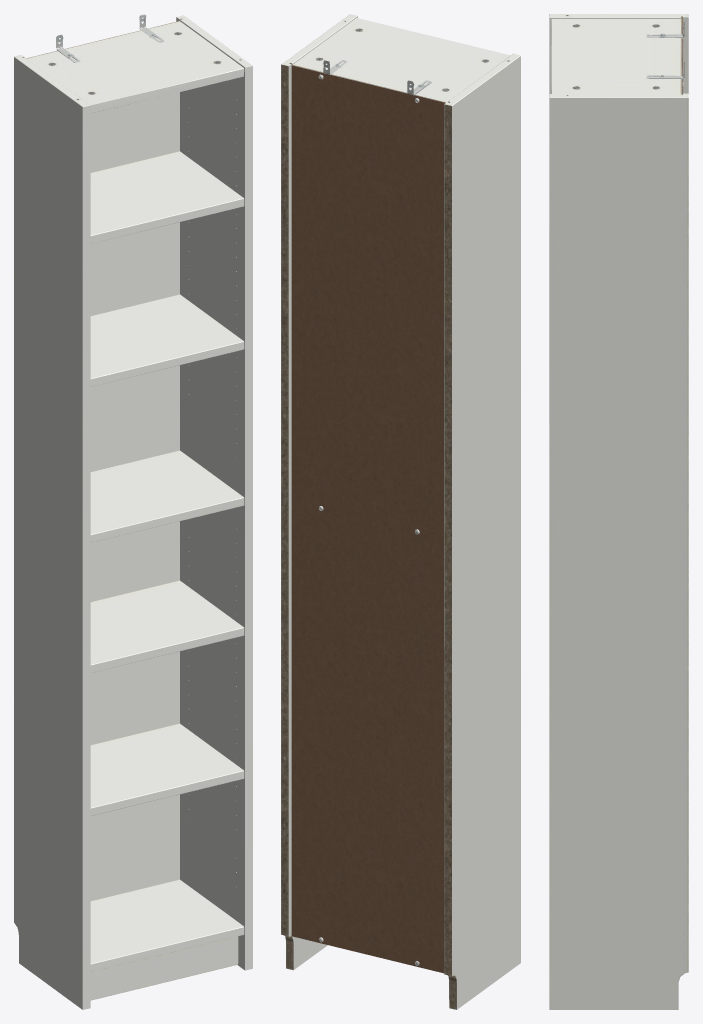
The picture shows the model from 3 angles, left to right: view 1: azimuth 30°, elevation 25°; view 2: azimuth 150°, elevation 25°; view 3: azimuth 270°, elevation 25°; orthographic projection.
Visible parts, largest first — view 1: ASY_ART_50522040_S01_NV01; view 2: ASY_ART_50522040_S01_NV01; view 3: ASY_ART_50522040_S01_NV01.
Boxes of the visible parts, x1,y1,x2,y2 form: ASY_ART_50522040_S01_NV01: (14, 14, 252, 1009); ASY_ART_50522040_S01_NV01: (281, 14, 520, 1009); ASY_ART_50522040_S01_NV01: (549, 14, 688, 1009).
Bounding box in the file's own units: 0.3981 × 2.05 × 0.2796.
1 material, 1 textured.
